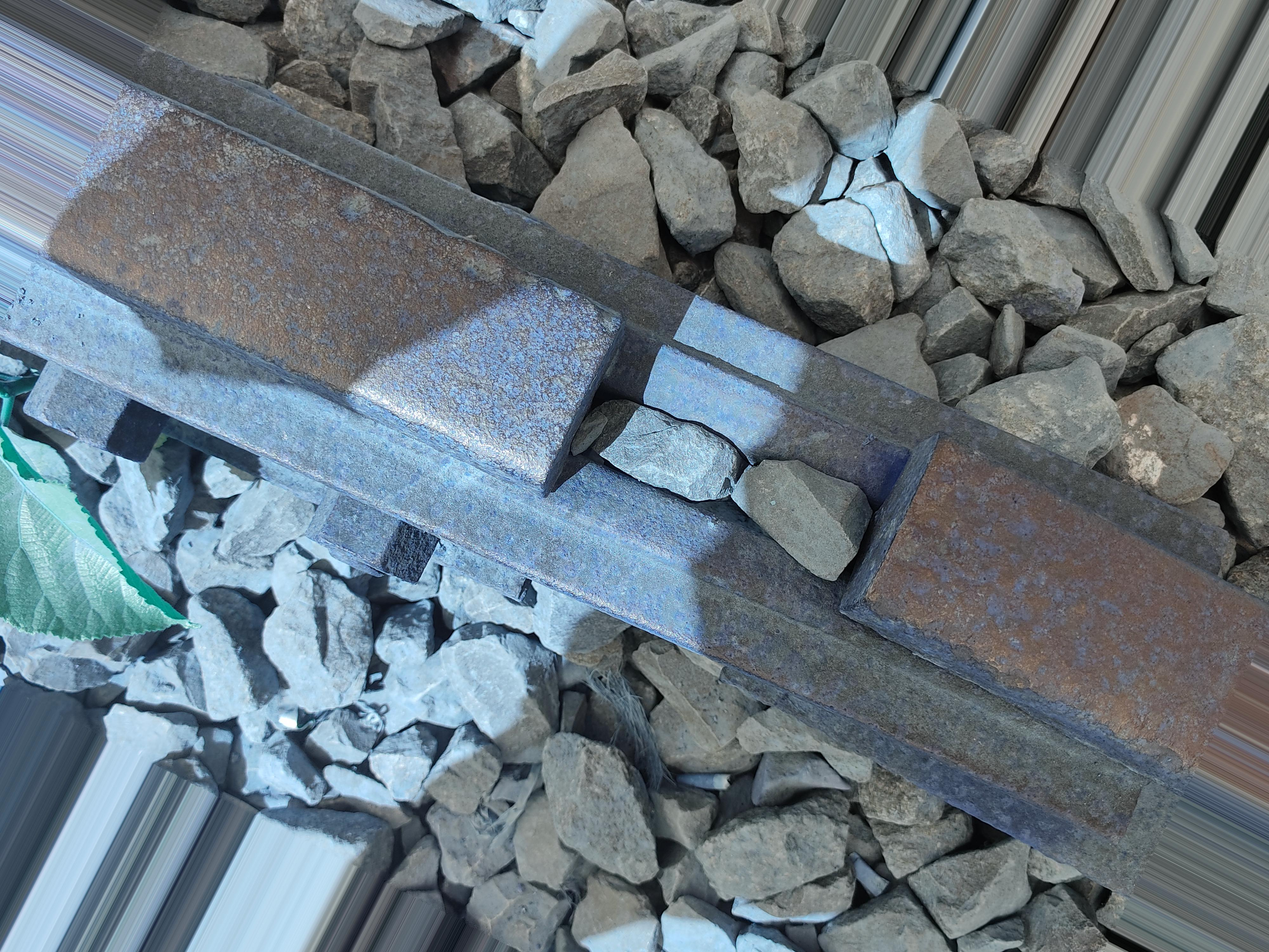tracks_fault: (476, 272, 963, 651)
